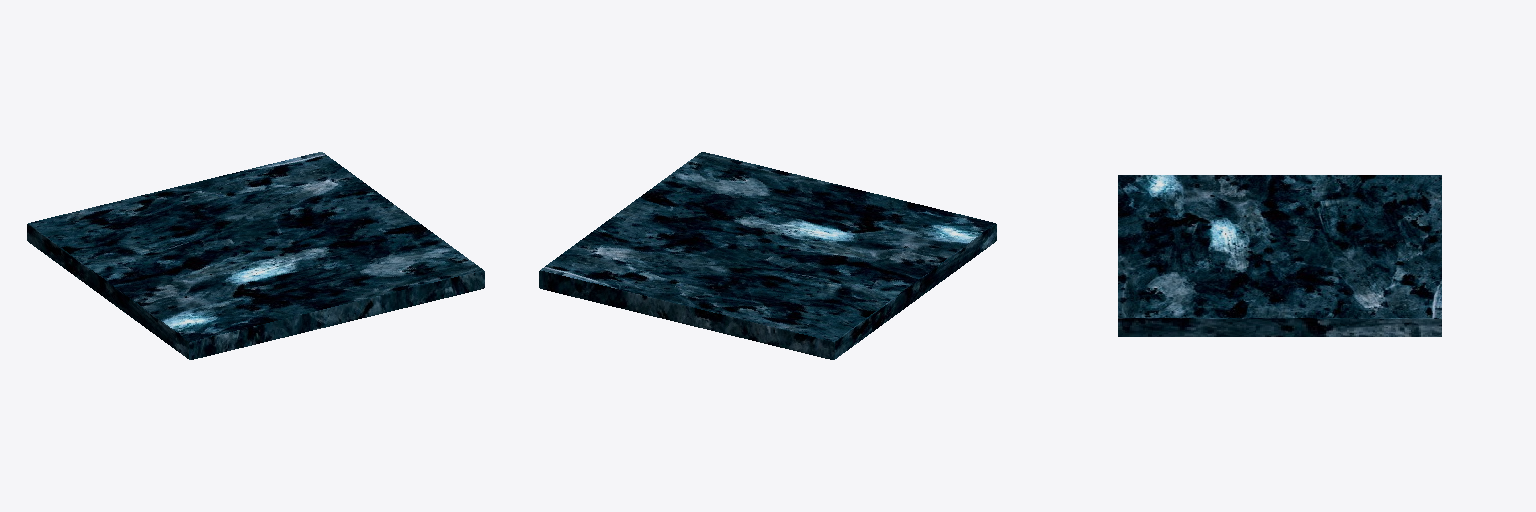
3 renders of one model, left to right at view 1: azimuth 30°, elevation 25°; view 2: azimuth 150°, elevation 25°; view 3: azimuth 270°, elevation 25°, orthographic.
Visible parts, largest first — view 1: model_model.058; view 2: model_model.058; view 3: model_model.058.
Boxes of the visible parts, x1=… form: model_model.058: x1=27, y1=152, x2=484, y2=359; model_model.058: x1=539, y1=152, x2=996, y2=359; model_model.058: x1=1118, y1=175, x2=1441, y2=336.
Bounding box in the file's own units: 0.63 × 0.038 × 0.6.
1 materials, 1 textured.